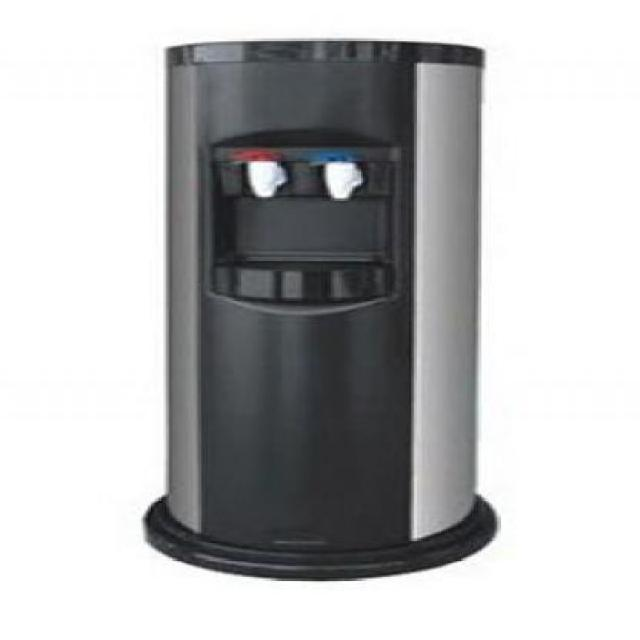cooler: (132, 28, 508, 584)
